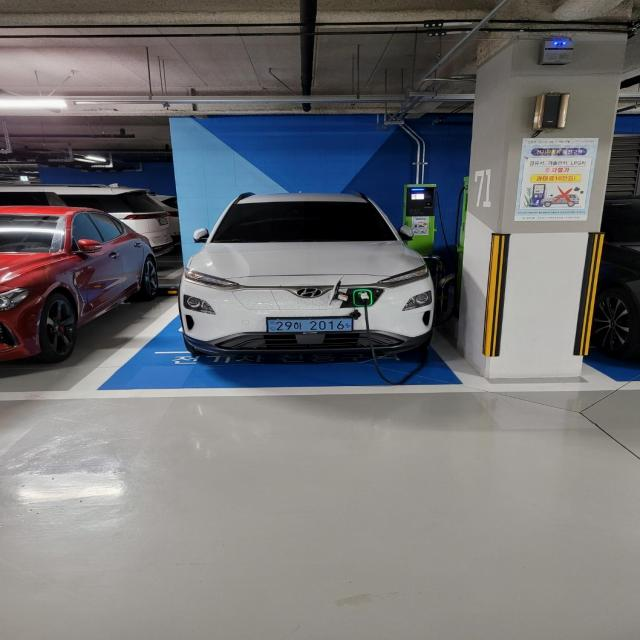EV_plate: (260, 313, 361, 336)
car: (175, 188, 454, 364)
